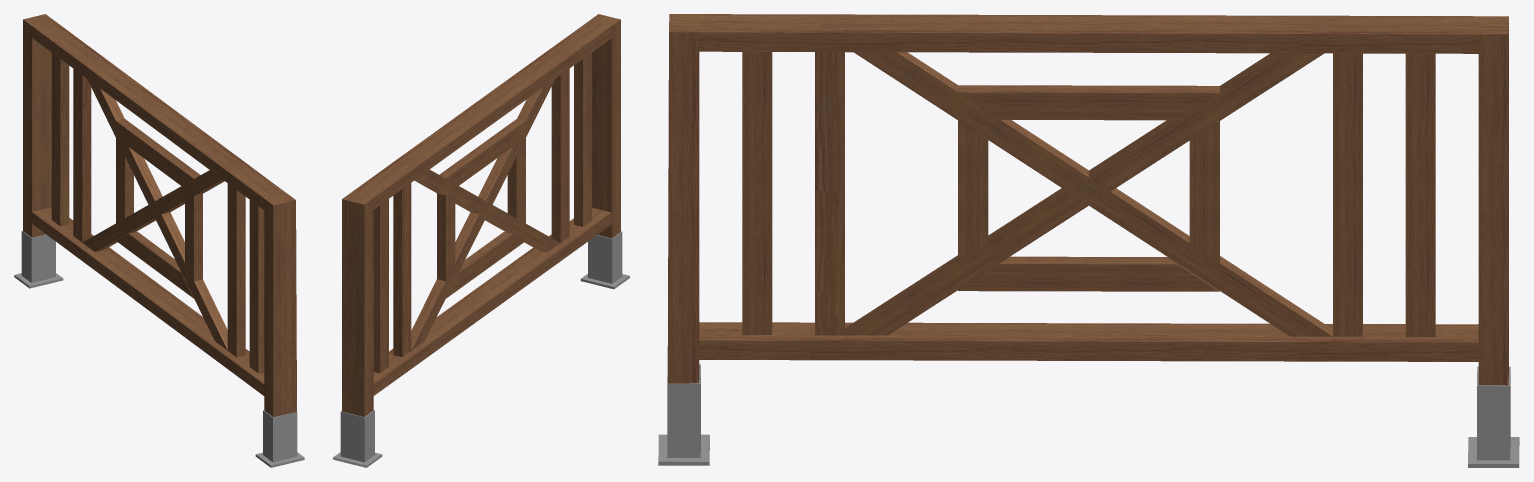
File: BarrireExtBois01.fbx
3 renders of one model, left to right at view 1: azimuth 30°, elevation 25°; view 2: azimuth 150°, elevation 25°; view 3: azimuth 270°, elevation 25°, orthographic. The views are drawn at different scales.
Parts seen in each view (by area): view 1: Barriere; view 2: Barriere; view 3: Barriere.
Part boxes in pixels (bbox=[...]): Barriere: bbox=[14, 14, 304, 467]; Barriere: bbox=[333, 14, 629, 467]; Barriere: bbox=[658, 14, 1519, 467].
Size of the model in its own units: 16.17 by 110 by 200.
